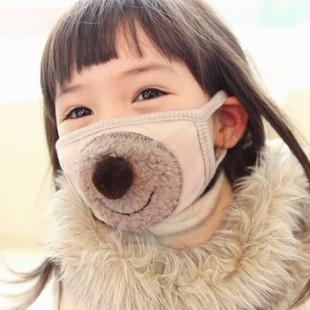OK: (48, 56, 220, 228)
